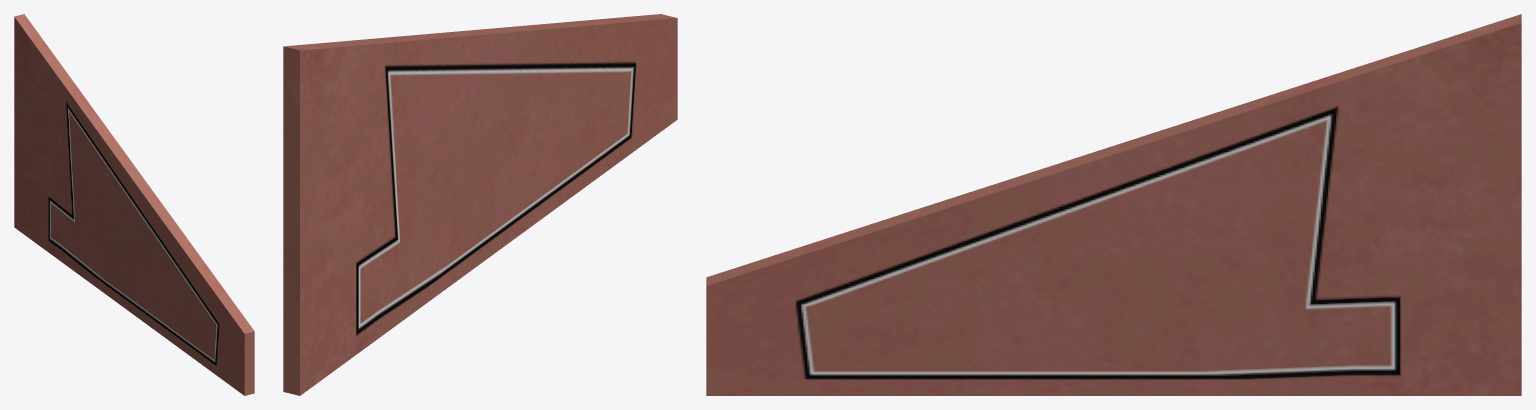
The model's file is SM_TopWall01B.fbx.
The picture shows the model from 3 angles, left to right: view 1: azimuth 30°, elevation 25°; view 2: azimuth 150°, elevation 25°; view 3: azimuth 270°, elevation 25°; orthographic projection. The views are drawn at different scales.
Parts seen in each view (by area): view 1: SM_TopWall01B; view 2: SM_TopWall01B; view 3: SM_TopWall01B.
Boxes of the visible parts, x1,y1,x2,y2 form: SM_TopWall01B: (14, 14, 254, 395); SM_TopWall01B: (283, 14, 677, 395); SM_TopWall01B: (706, 14, 1521, 395).
Size of the model in its own units: 3.51 by 137 by 69.41.
Materials: 1 (1 with a texture image).
